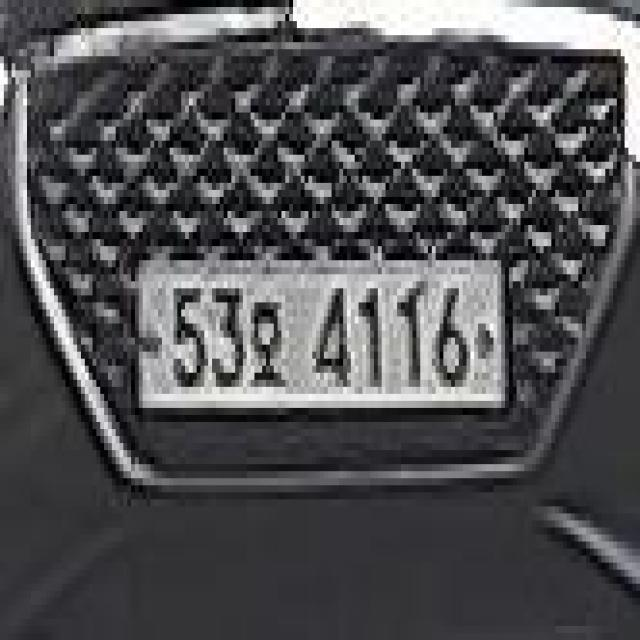1: (393, 283, 427, 393), (358, 286, 388, 402)
3: (213, 278, 247, 396)
4: (309, 285, 354, 400)
5: (169, 281, 208, 395)
6: (432, 288, 472, 390)
ho: (252, 282, 289, 410)
license_plate: (128, 238, 523, 430)
